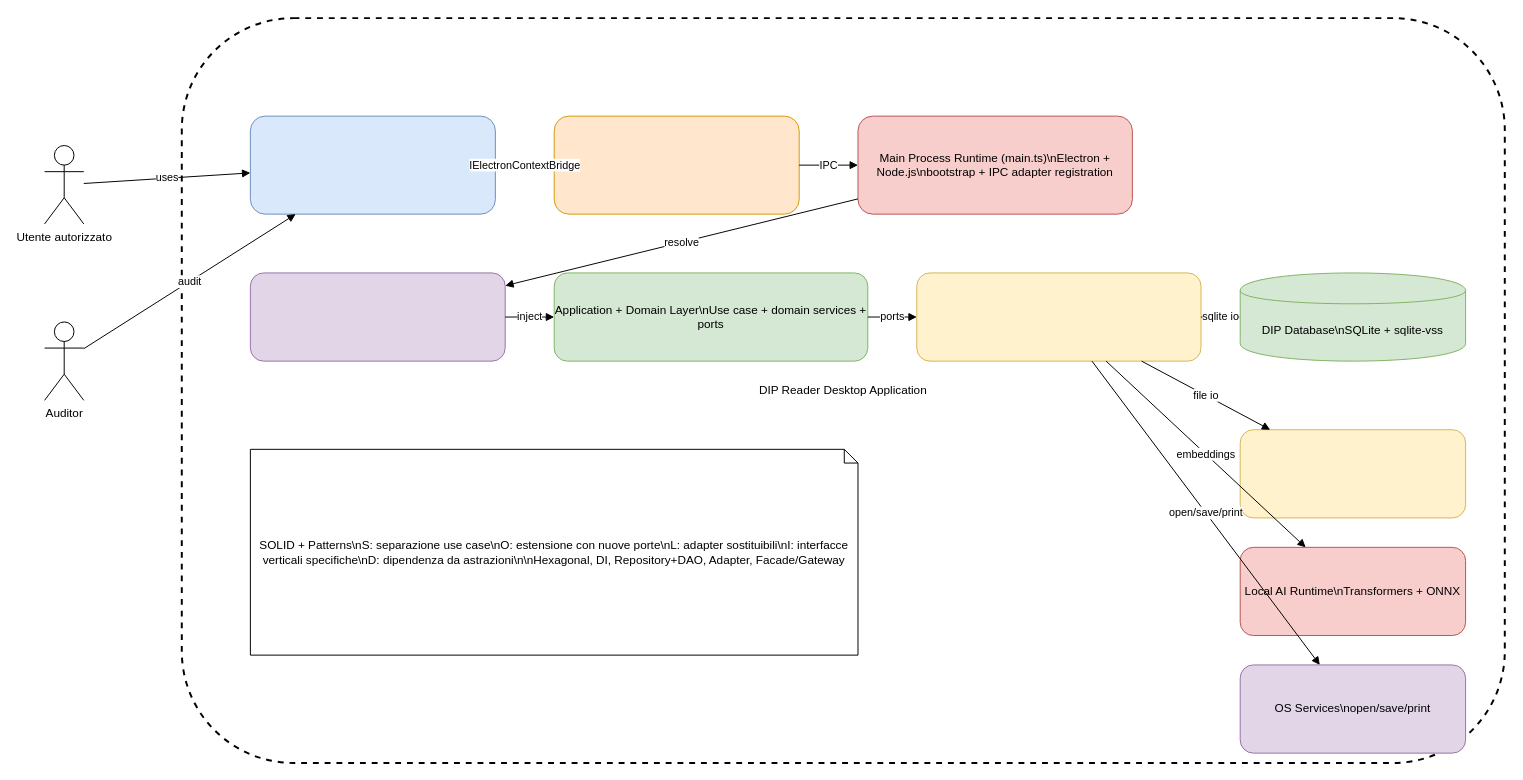
Image size: 1523x780. Some labels were removed from this diagram. The centre of each missing label's shape, as x and y in pixels:
"Composition Root (core/src/container.ts)\ntsyringe DI container" belongs at [377,316].
"Infrastructure Layer\nRepositories + DAO + adapters" belongs at [1058,316].
"Local File System\nDIP folders and files" belongs at [1352,473].
"Preload Bridge (core/src/preload.ts)\ncontextBridge + IPC allowlist" belongs at [676,164].
"Renderer UI\nAngular + TypeScript\nSearch/filter/result views" belongs at [372,164].
